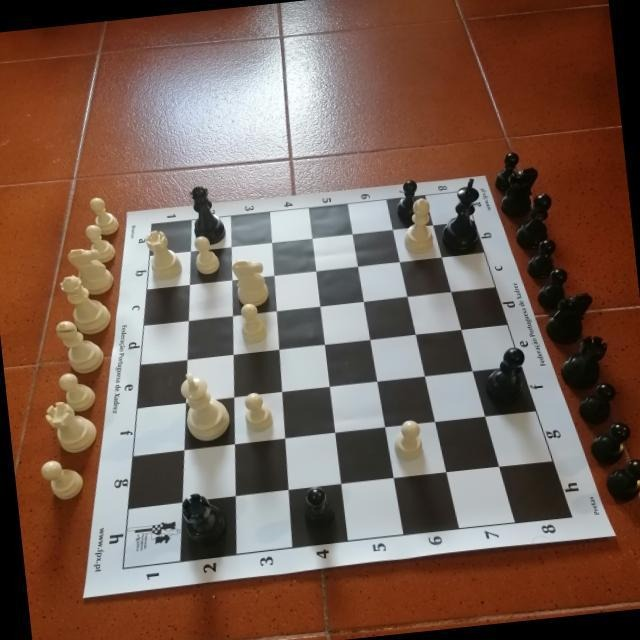black-bishop: (482, 343, 530, 406), (509, 191, 557, 253)
black-king: (434, 176, 486, 255)
black-knight: (540, 289, 597, 346), (494, 164, 543, 220), (532, 266, 571, 310)
black-pawn: (587, 420, 635, 468), (575, 381, 619, 427), (602, 455, 640, 505), (300, 483, 336, 532), (524, 236, 560, 280), (490, 149, 523, 194), (392, 177, 424, 223)
black-queen: (188, 182, 228, 246)
black-rook: (556, 332, 612, 392), (178, 488, 230, 548)
white-bishop: (53, 315, 106, 377), (398, 196, 434, 256)
white-knight: (64, 244, 115, 298), (230, 254, 270, 309)
white-pawn: (38, 456, 86, 503), (56, 370, 97, 414), (391, 416, 425, 463), (241, 390, 275, 433), (84, 222, 118, 265), (87, 194, 120, 237), (238, 300, 269, 345), (190, 232, 221, 276)
white-queen: (56, 270, 113, 338)
white-rook: (43, 396, 100, 456), (143, 226, 184, 282)
